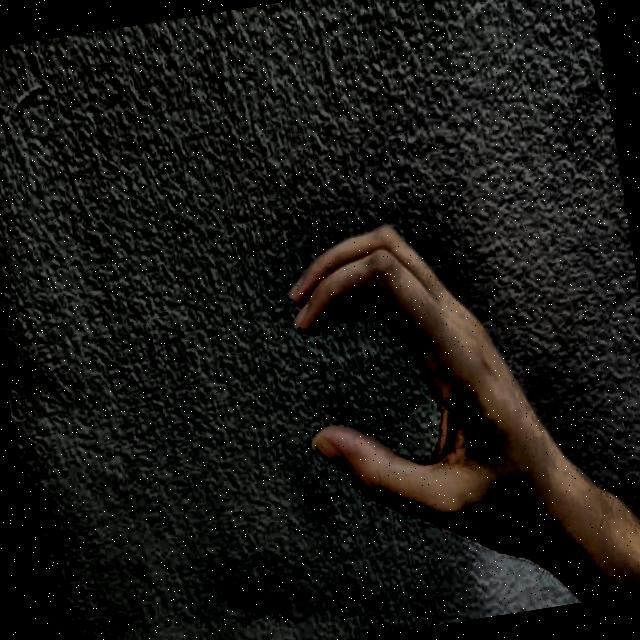A: (246, 182, 540, 608)
